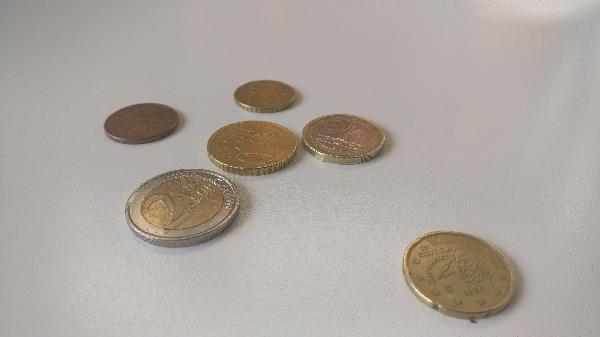Fifty Cent: (209, 118, 297, 176)
Five Cent: (101, 101, 182, 144)
One Euro: (301, 113, 387, 165)
Ten Cent: (232, 77, 299, 116)
Twenty Cent: (402, 230, 528, 319)
Two Euro: (122, 168, 249, 251)
